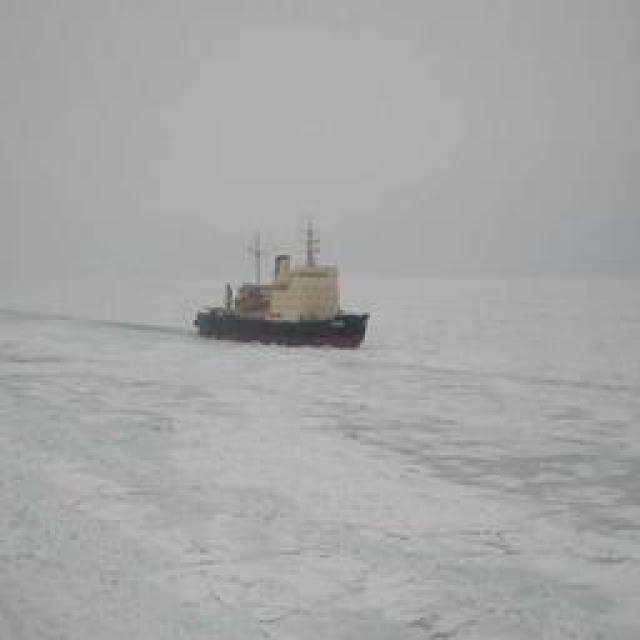Ship: (195, 227, 368, 350)
